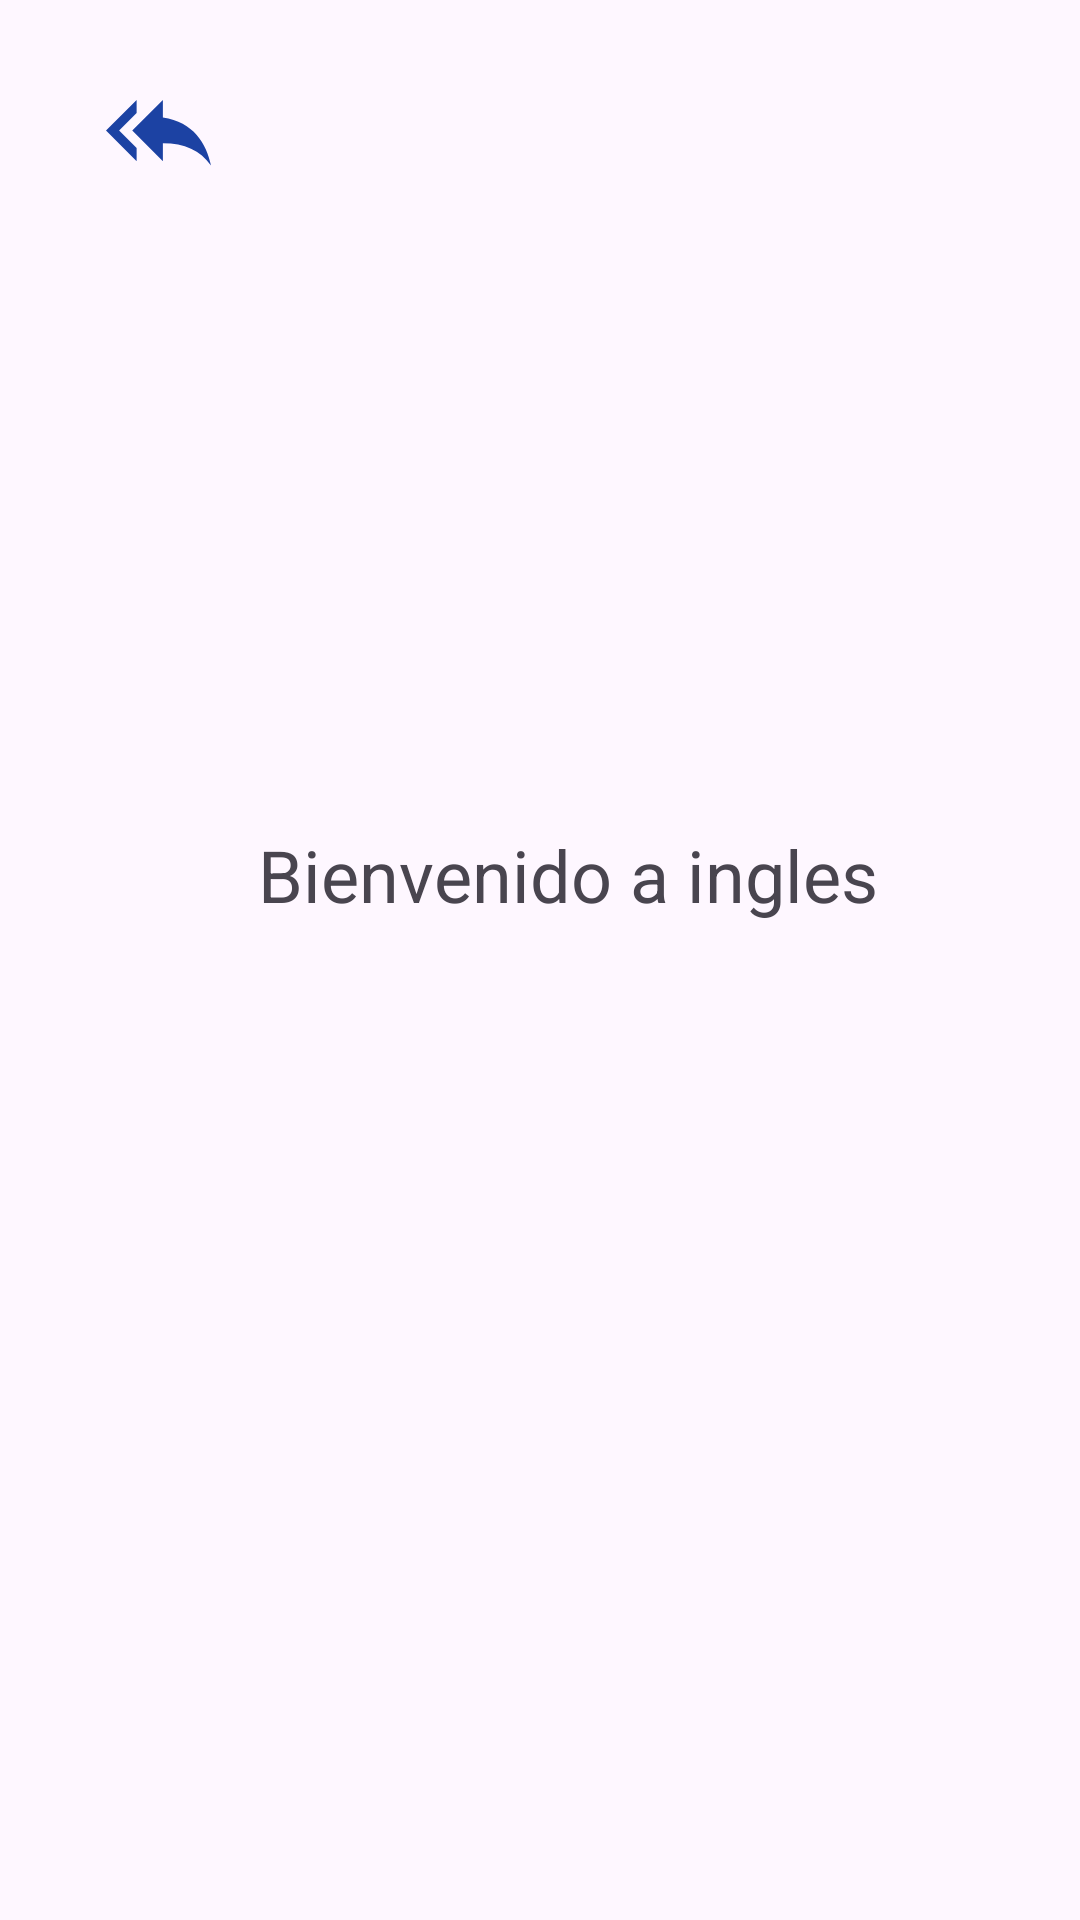

Screen size 1080px x 1920px. Icon name, then its box in pixels as (x1, y1, x2, y2):
backimage: (106, 100, 211, 165)
